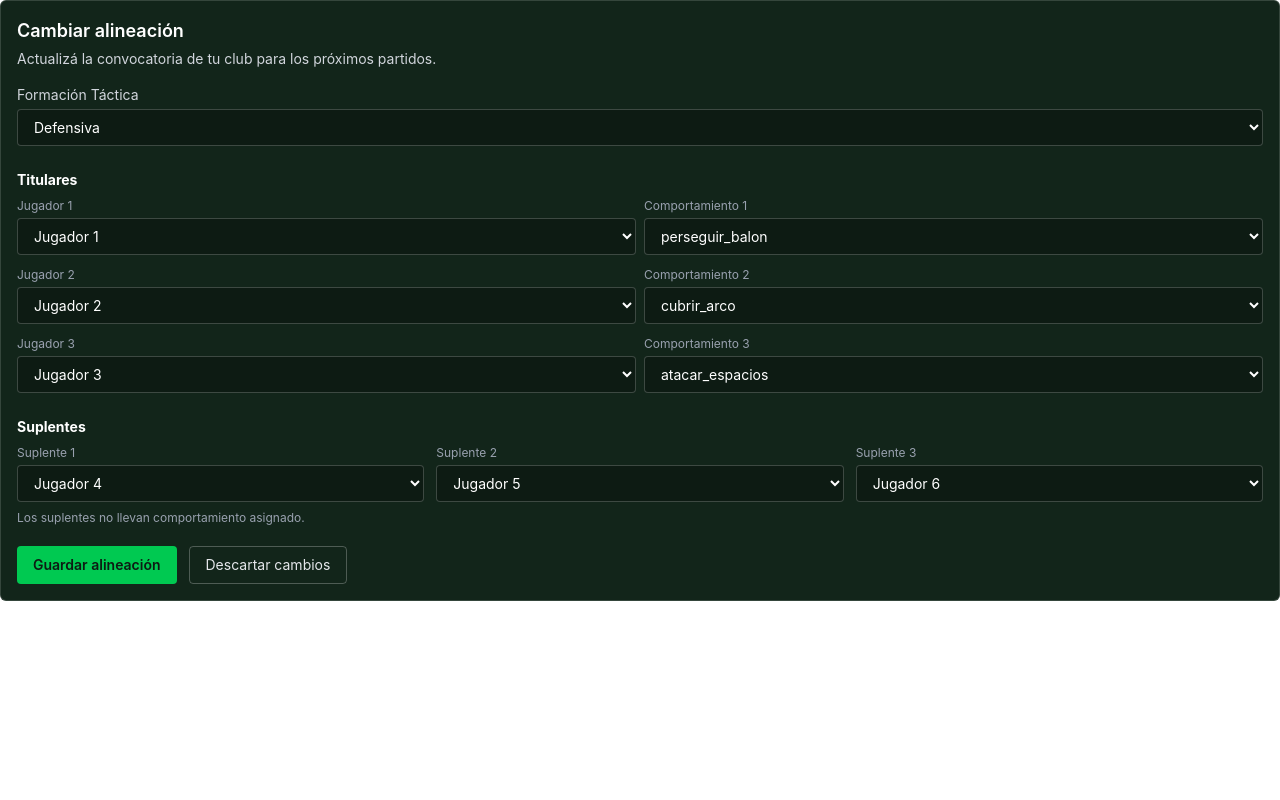
Test: CambiarAlineacion › carga la alineación y la guarda en la liga
Expected: the dropdown labelled "Jugador 1" shows "Jugador 1", [17,218,636,255]
Expected: the dropdown labelled "Formación Táctica" shows "Defensiva", [17,109,1263,146]
Click the button "Guardar alineación" at (97, 565), box [17,546,176,584]
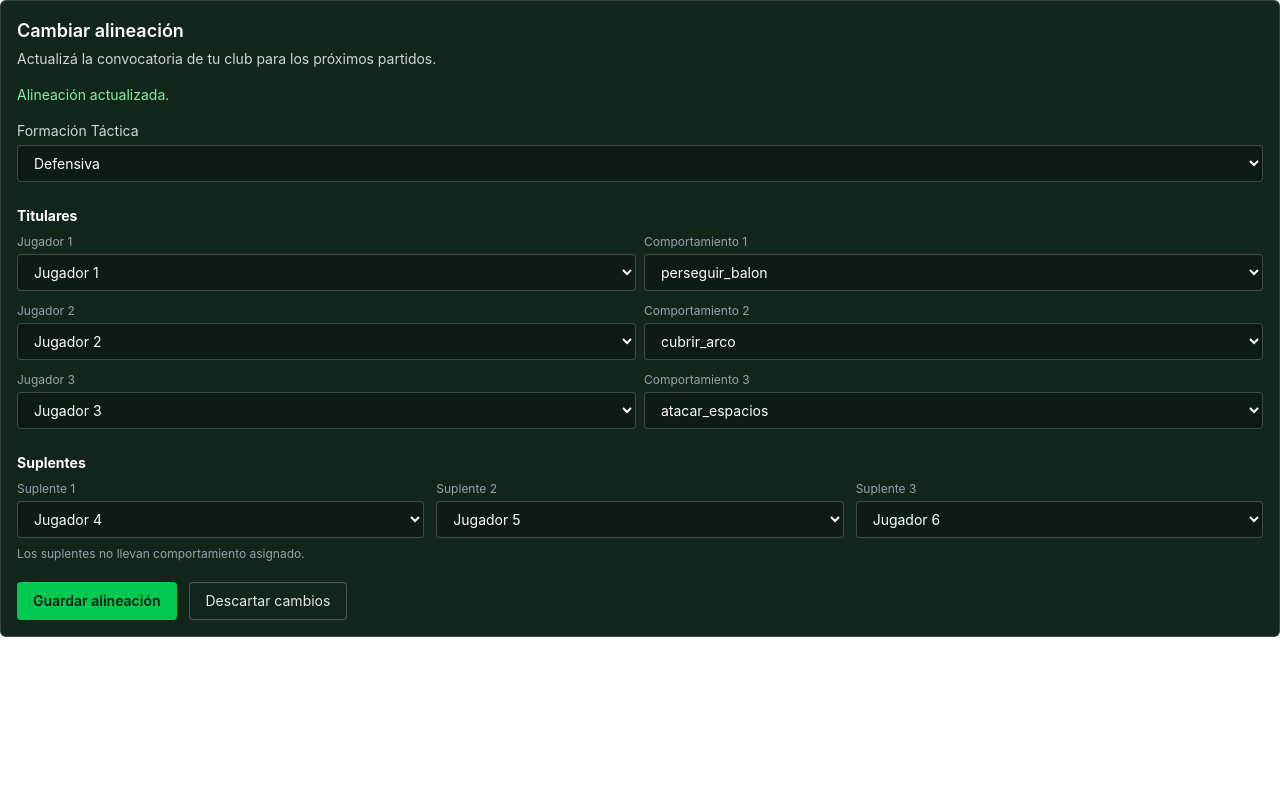
Expected: the message reads "Alineación actualizada.", [17,86,169,103]
